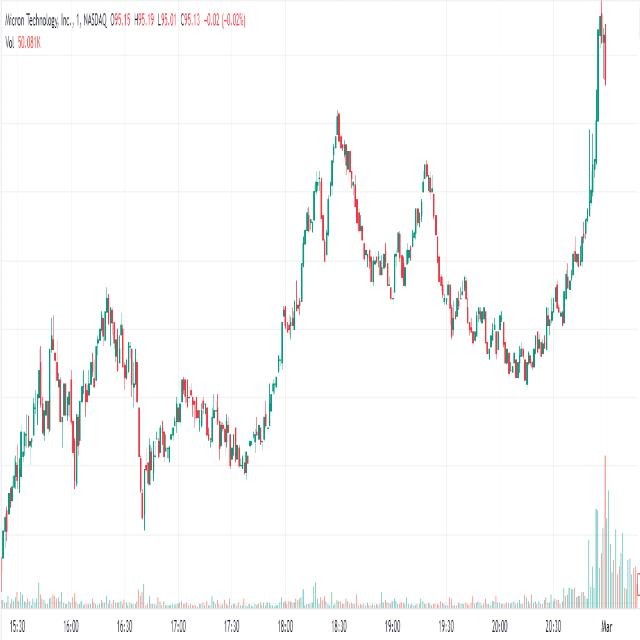Rounding-Bottom: (428, 181, 594, 401), (187, 355, 288, 487), (345, 182, 427, 308)
